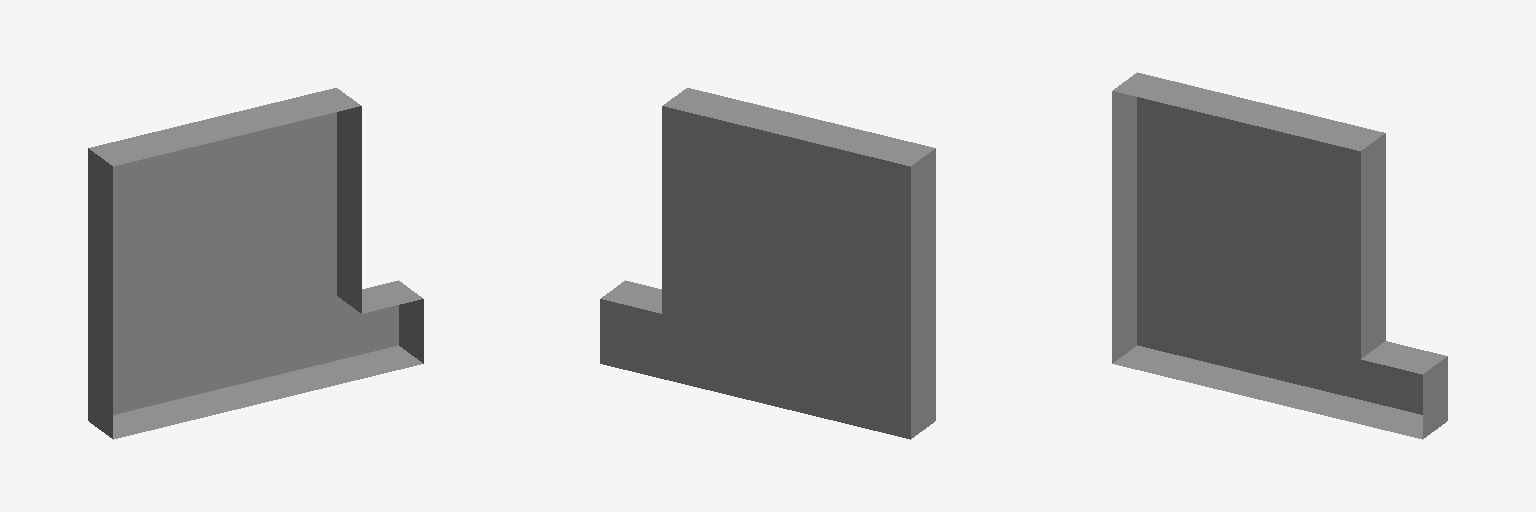
File: Room.obj
3 views of the same model, side by side, from view 1: azimuth 30°, elevation 25°; view 2: azimuth 150°, elevation 25°; view 3: azimuth 330°, elevation 25° (orthographic).
Visible parts, largest first — view 1: Cube_Cube.004; view 2: Cube_Cube.004; view 3: Cube_Cube.004.
Part boxes in pixels (left/top/right/bottom): Cube_Cube.004: left=88, top=88, right=423, bottom=439; Cube_Cube.004: left=600, top=88, right=935, bottom=439; Cube_Cube.004: left=1112, top=72, right=1447, bottom=439.
Bounding box in the file's own units: 25 × 21 × 3.5.